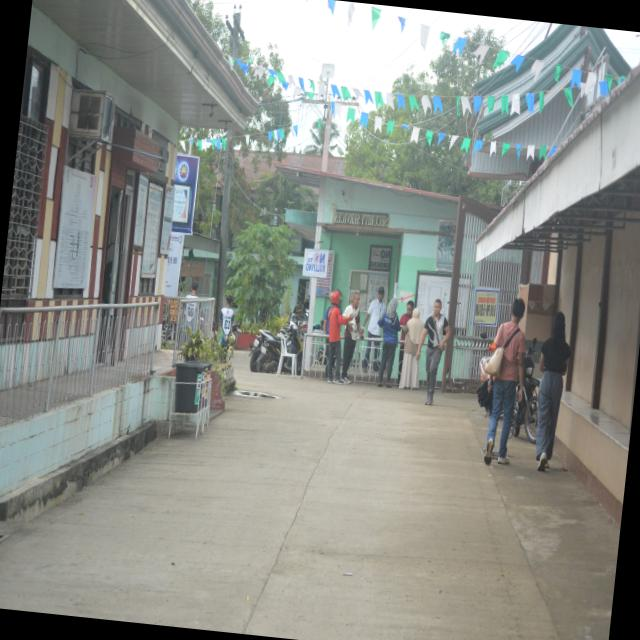person: (484, 299, 524, 464), (535, 312, 570, 471), (416, 300, 449, 405), (326, 290, 352, 384), (340, 292, 363, 384), (377, 298, 399, 387), (399, 308, 422, 389), (395, 300, 413, 385), (362, 287, 385, 338), (218, 295, 233, 350)
